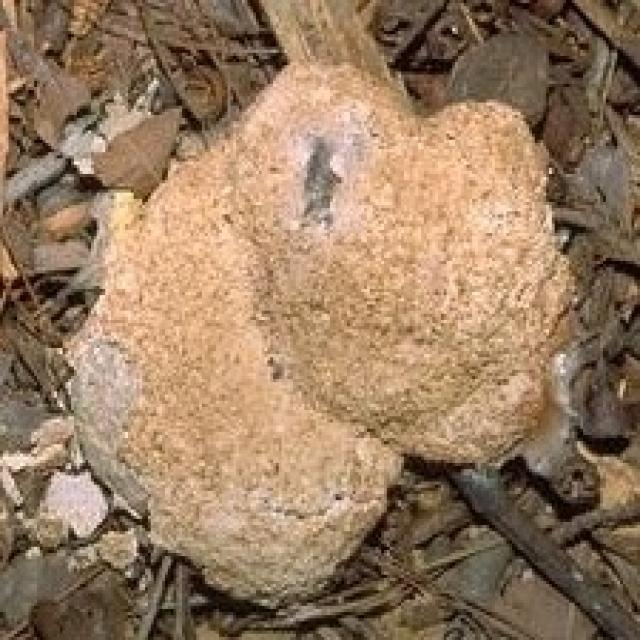Dog_vomit_slime_mold: (57, 53, 597, 609)
